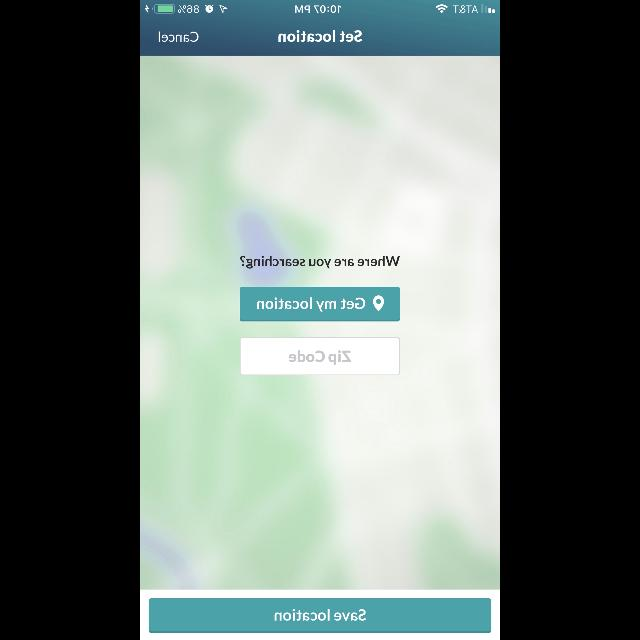input: (240, 337, 400, 375)
text: (240, 256, 400, 268), (278, 30, 362, 42), (289, 350, 351, 366), (159, 32, 199, 42)
textbutton: (149, 598, 491, 634), (240, 286, 400, 322)
uppertaskbar: (140, 0, 500, 14)
